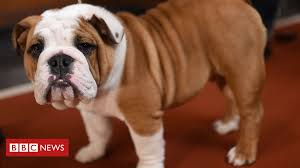Bulldog: (7, 1, 284, 168)
